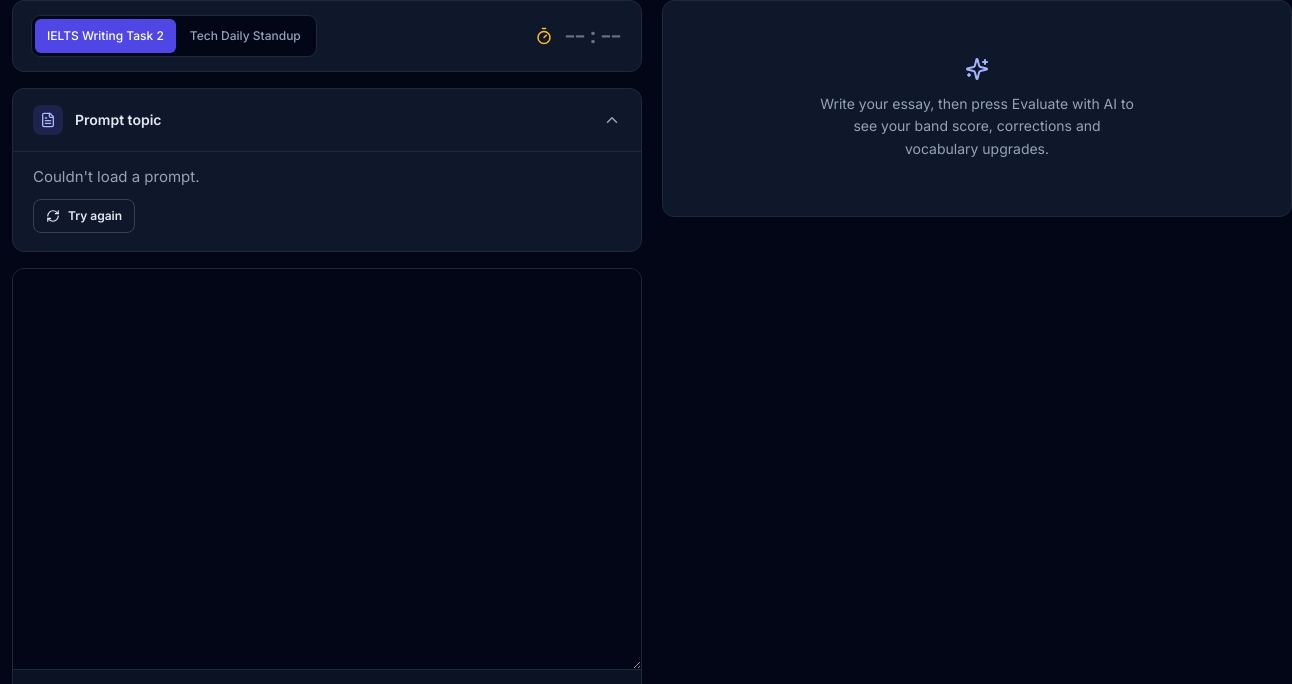
Test: a failed first load offers Try again
Expected: the text "Couldn't load a prompt." is shown, [33,167,200,186]
Click the button "Try again" at (84, 216), box [33,198,135,232]
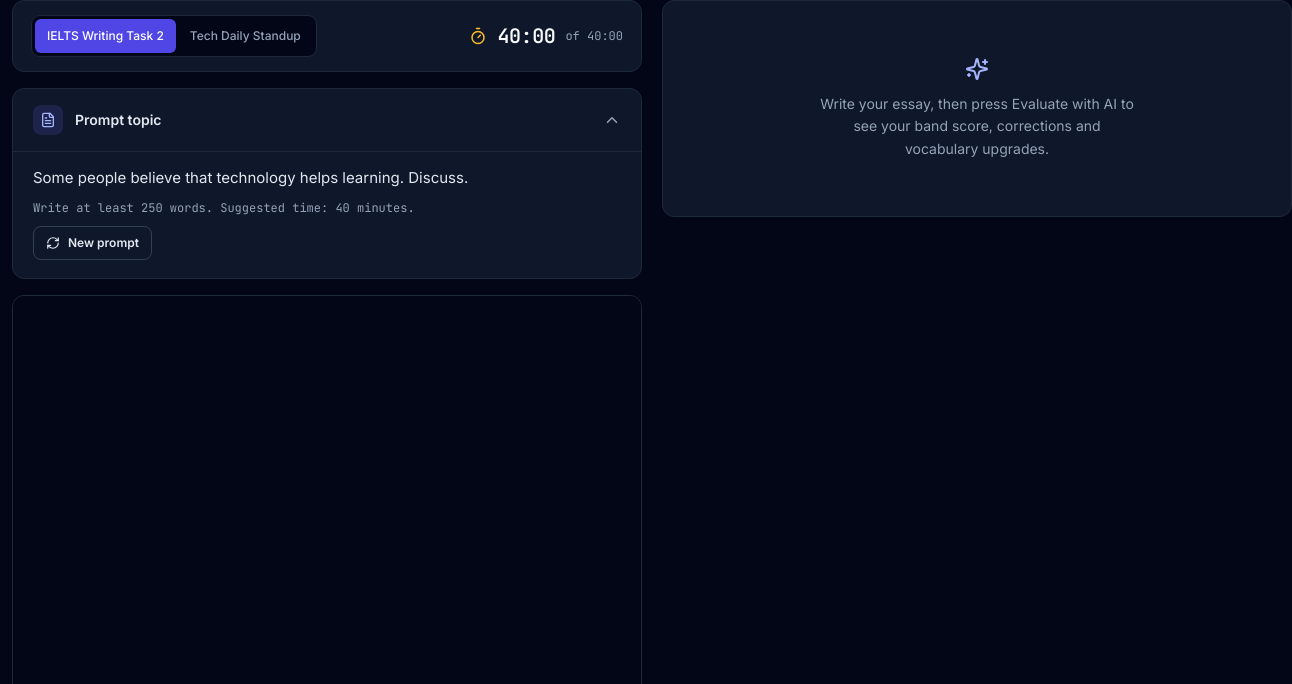
Expected: the text "Some people believe that technology helps learning. Discuss." is shown, [33,168,468,187]
